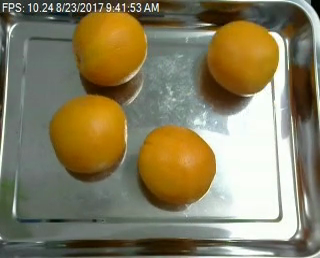Orange: (48, 93, 127, 173), (140, 125, 216, 205), (73, 9, 147, 87), (208, 19, 280, 97)
